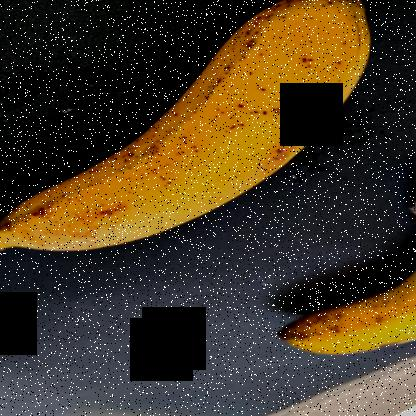ripe: (11, 0, 383, 258), (270, 223, 415, 378)
